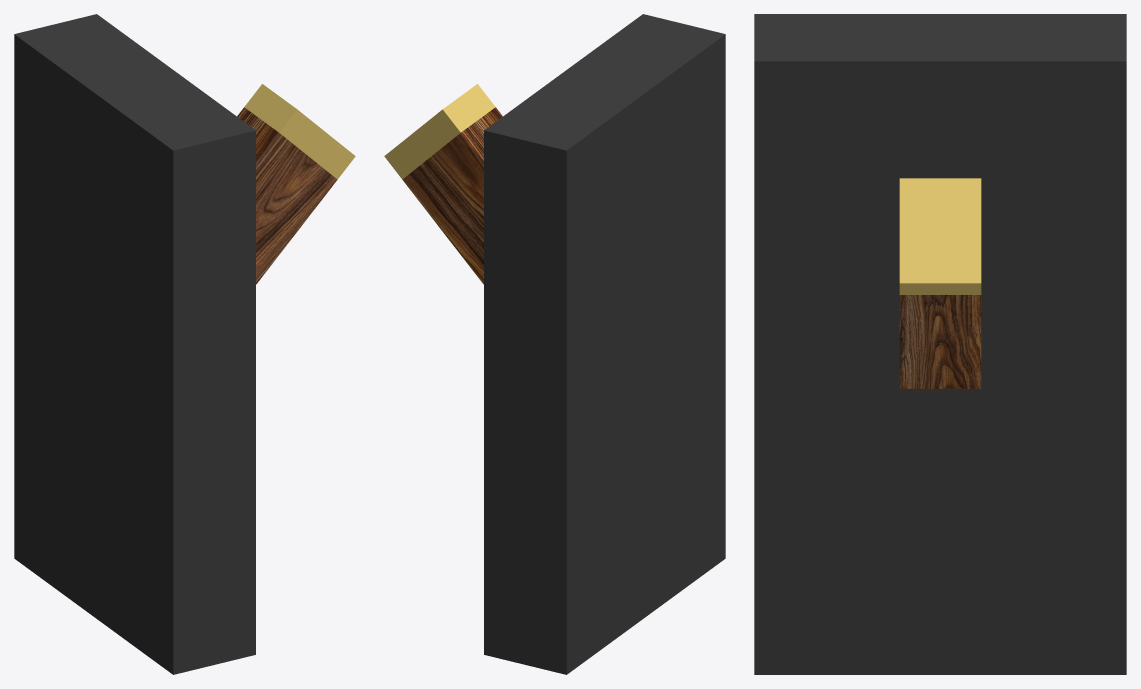
The model's file is lever.fbx.
The picture shows the model from 3 angles, left to right: view 1: azimuth 30°, elevation 25°; view 2: azimuth 150°, elevation 25°; view 3: azimuth 270°, elevation 25°; orthographic projection. The views are drawn at different scales.
Parts seen in each view (by area): view 1: Cube.002, Cube.003; view 2: Cube.002, Cube.003; view 3: Cube.002, Cube.003.
Part boxes in pixels (<box>): Cube.002: <box>14,14,255,674</box>; Cube.003: <box>237,84,355,284</box>; Cube.002: <box>484,14,725,674</box>; Cube.003: <box>384,84,502,284</box>; Cube.002: <box>754,14,1126,674</box>; Cube.003: <box>899,178,981,388</box>.
Size of the model in its own units: 177 by 364 by 200.
